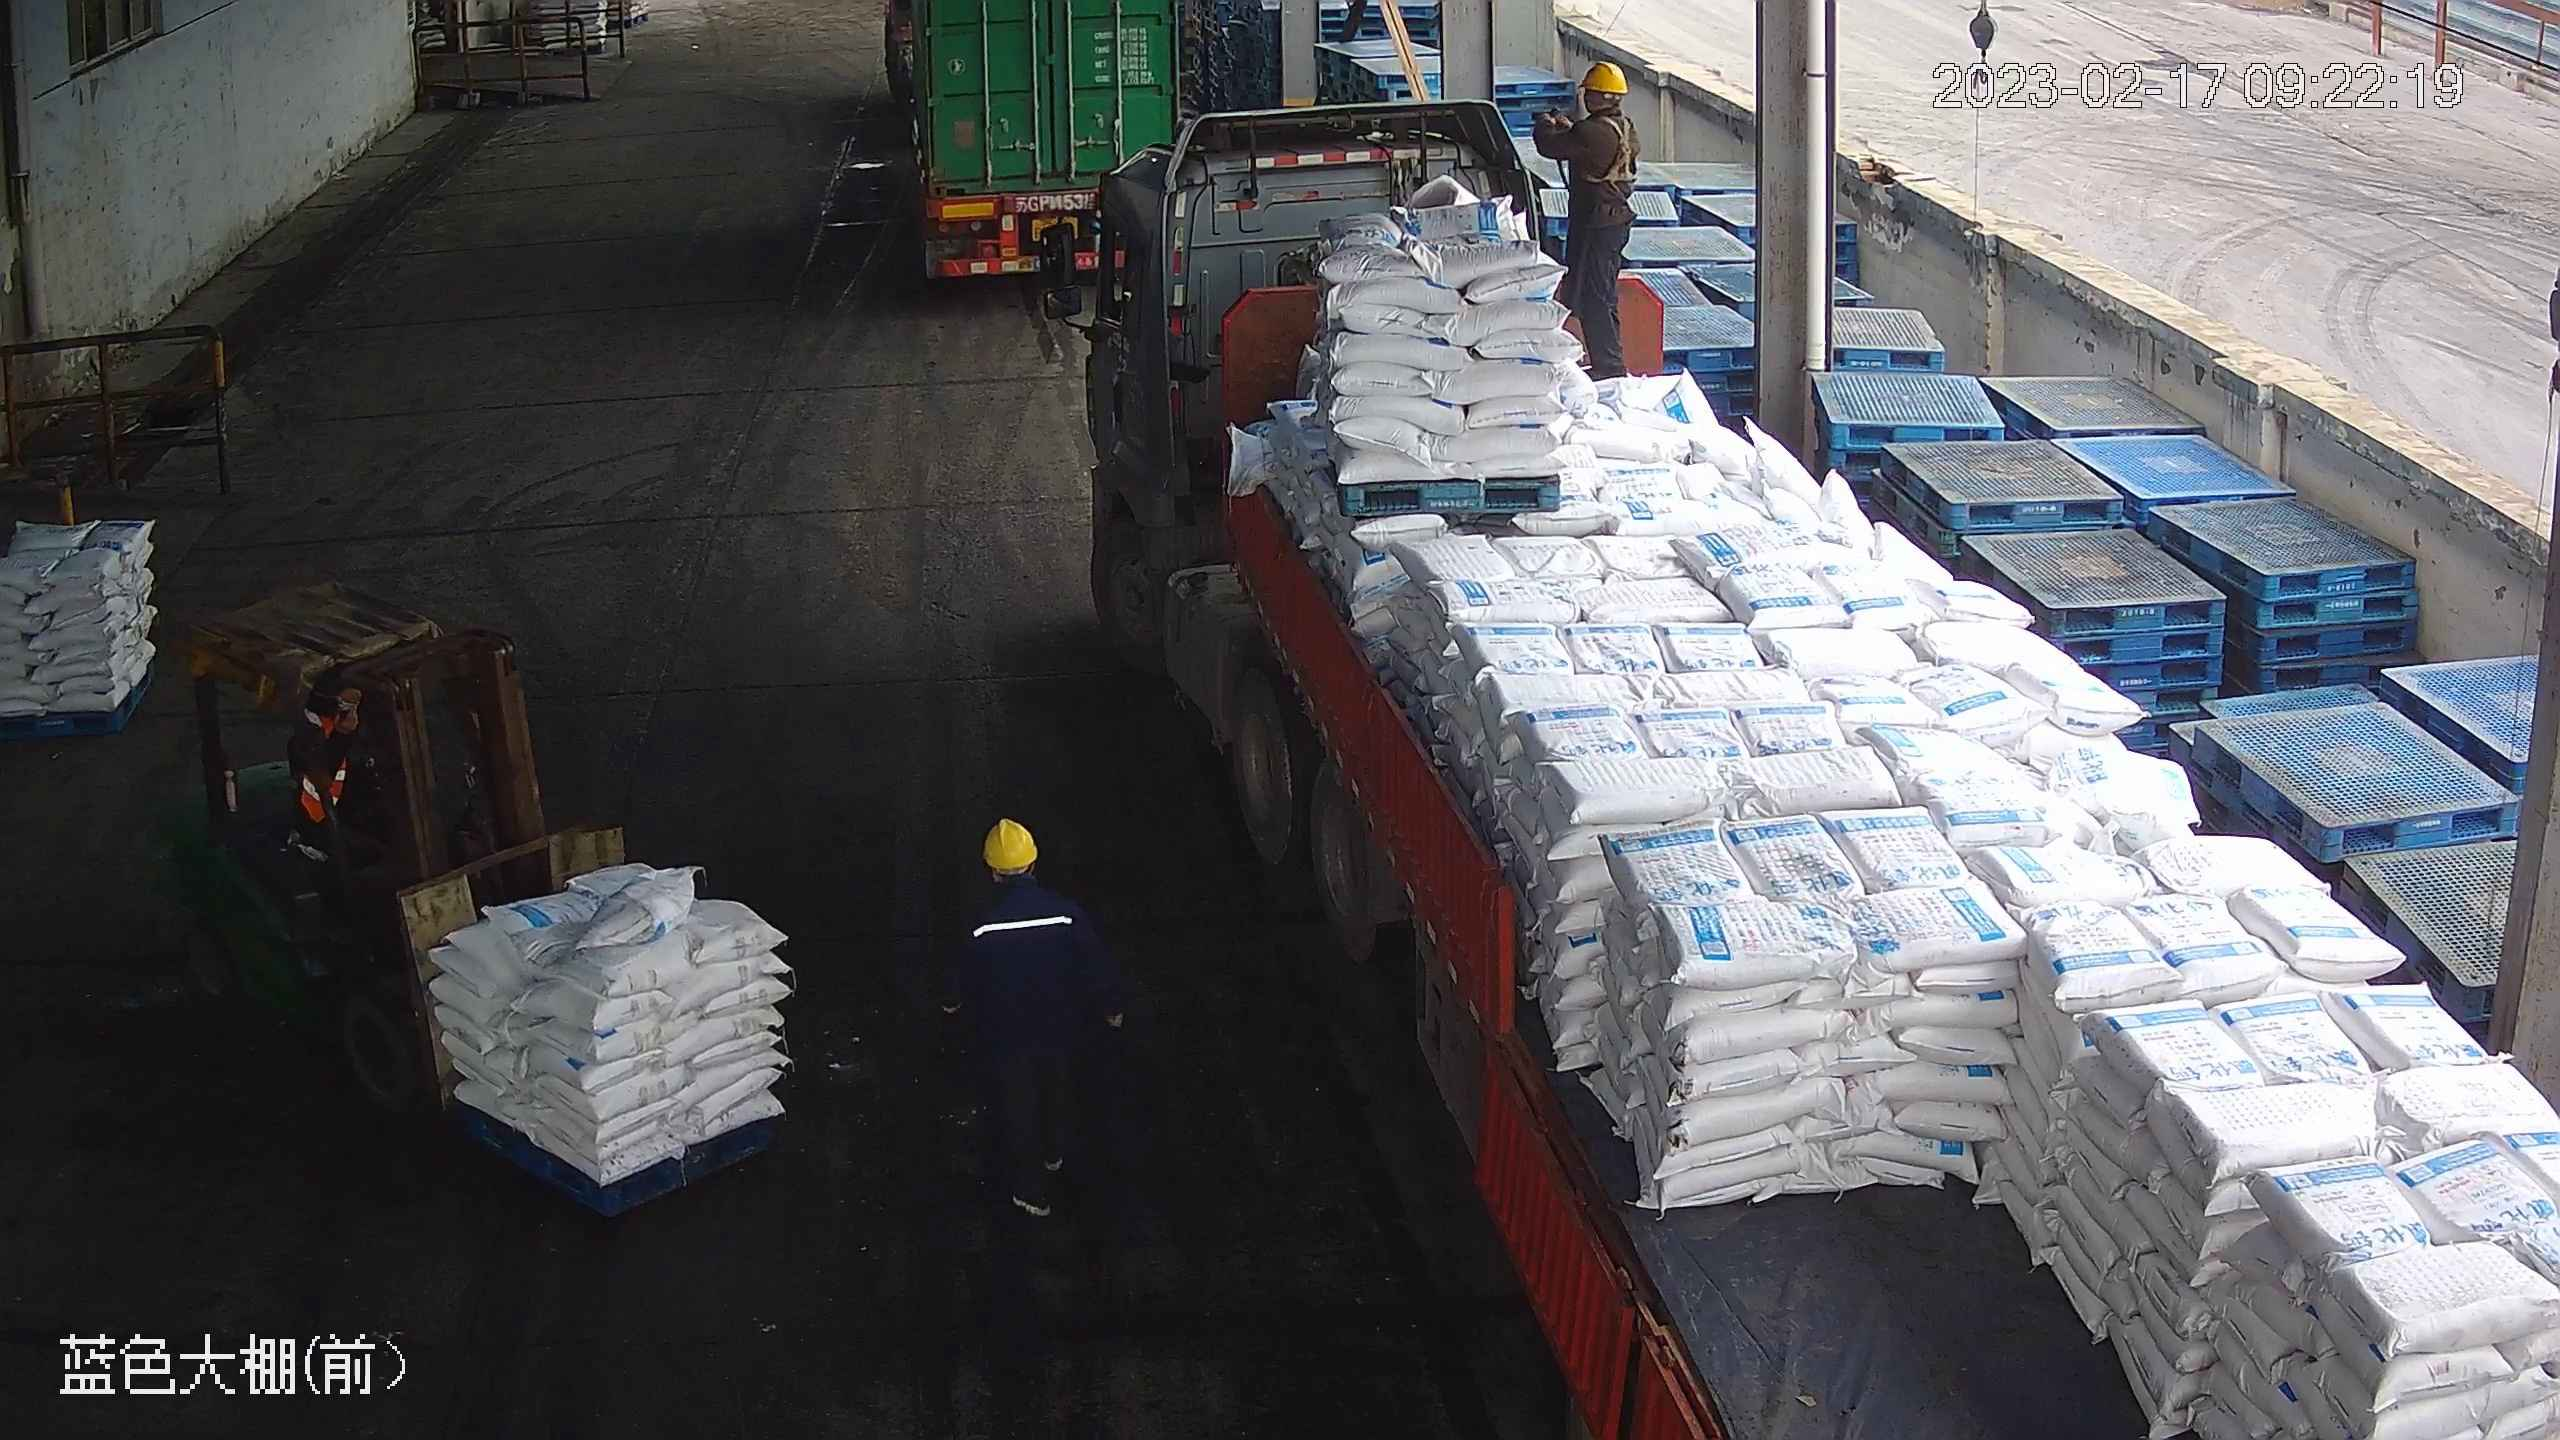belt: (1579, 107, 1644, 186)
head: (959, 818, 1089, 946), (1562, 57, 1640, 146)
helmet: (978, 817, 1038, 872), (1578, 57, 1631, 93)
people: (945, 815, 1127, 1219), (1530, 53, 1642, 383)
truck: (1048, 114, 2554, 1439), (878, 1, 1186, 282)
